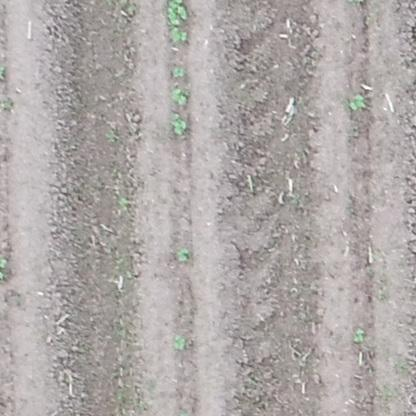vc: (165, 2, 192, 24), (170, 111, 188, 137), (346, 92, 366, 110), (170, 27, 190, 45), (174, 246, 194, 263), (171, 88, 191, 105), (170, 64, 188, 77), (173, 333, 186, 351), (353, 327, 364, 346)
